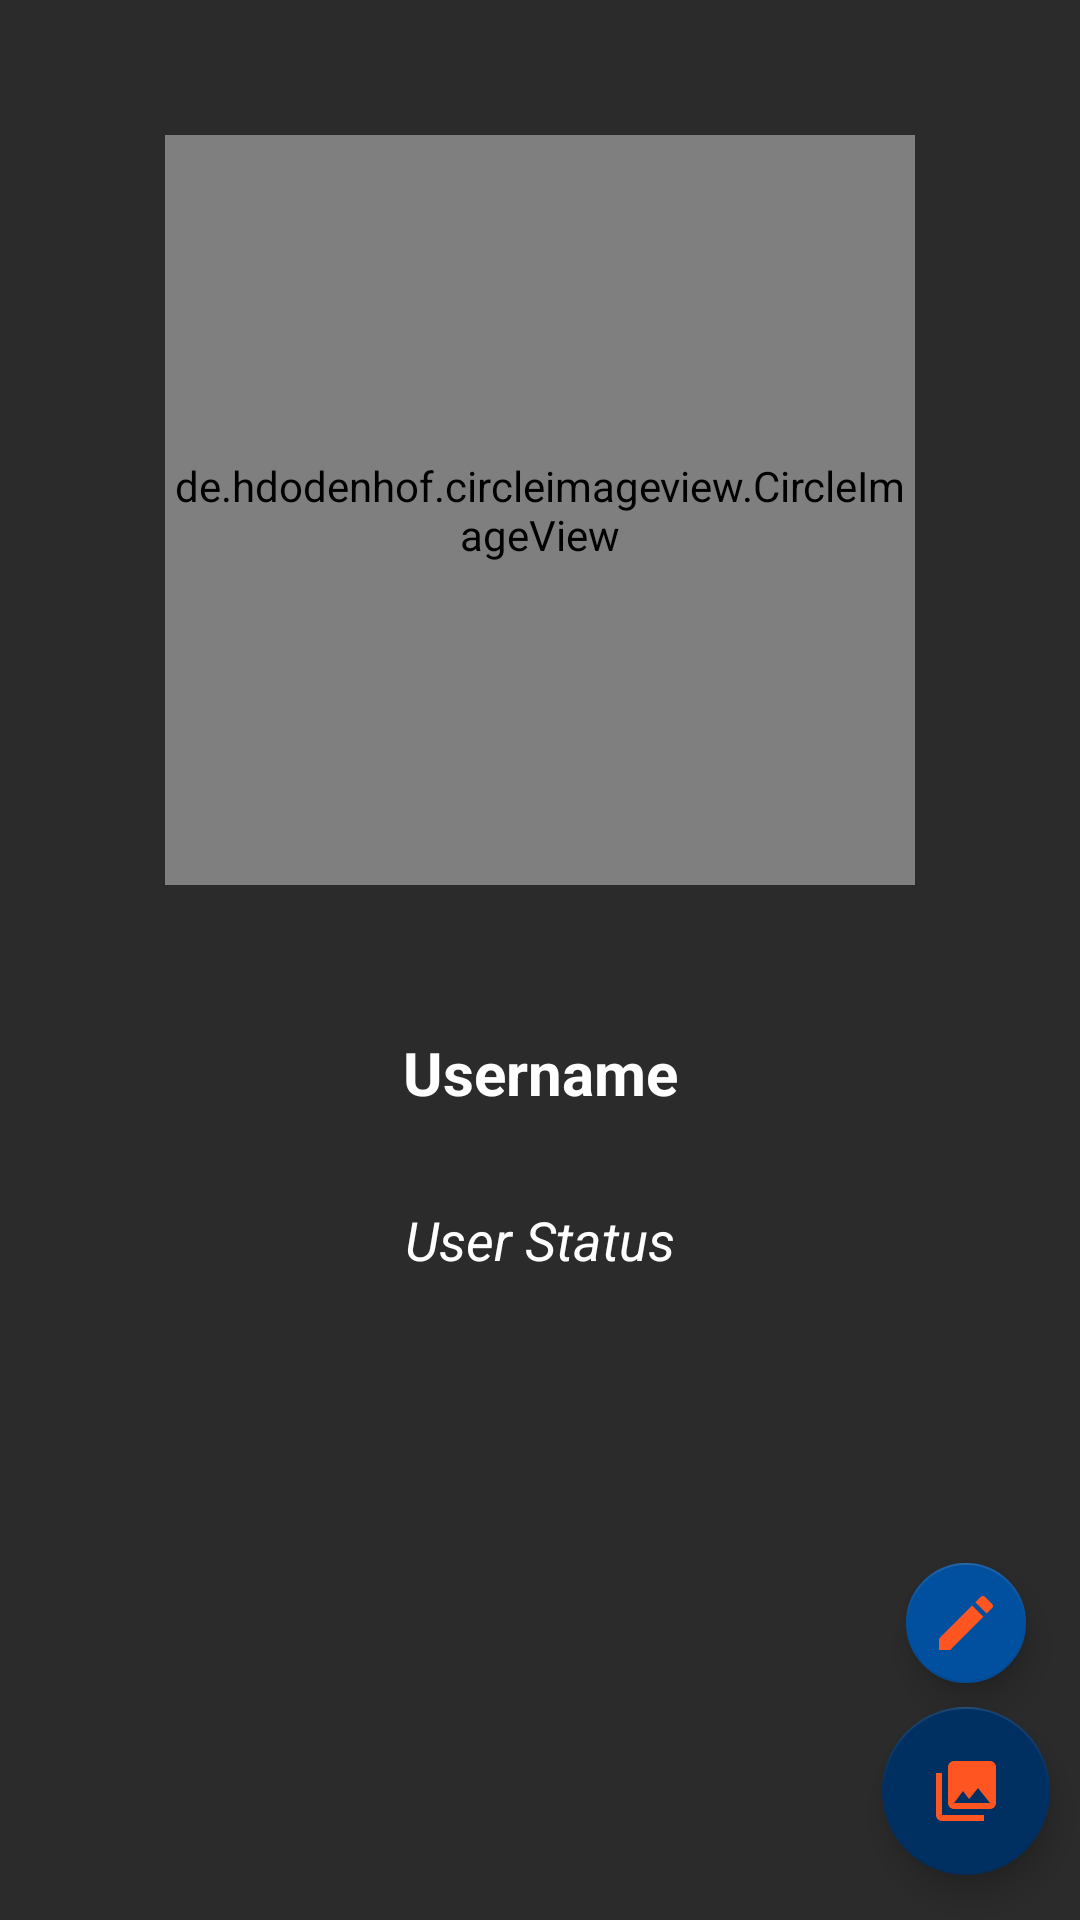

Screen size 1080w x 1920h. Icon name, then its box in pixels as box=[x1, y1, x2, y2]:
photo library: box=[882, 1707, 1050, 1875]
